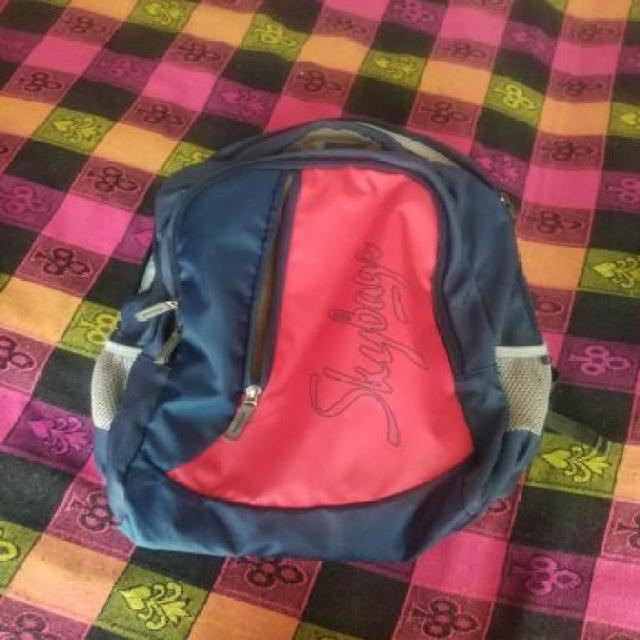backpack: (86, 111, 559, 571)
